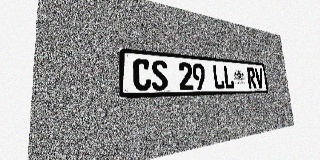2: (178, 62, 193, 90)
9: (192, 63, 206, 90)
C: (133, 58, 151, 91)
L: (212, 64, 225, 89), (223, 65, 235, 89)
R: (246, 67, 257, 89)
S: (151, 60, 168, 91)
V: (254, 68, 264, 88)
